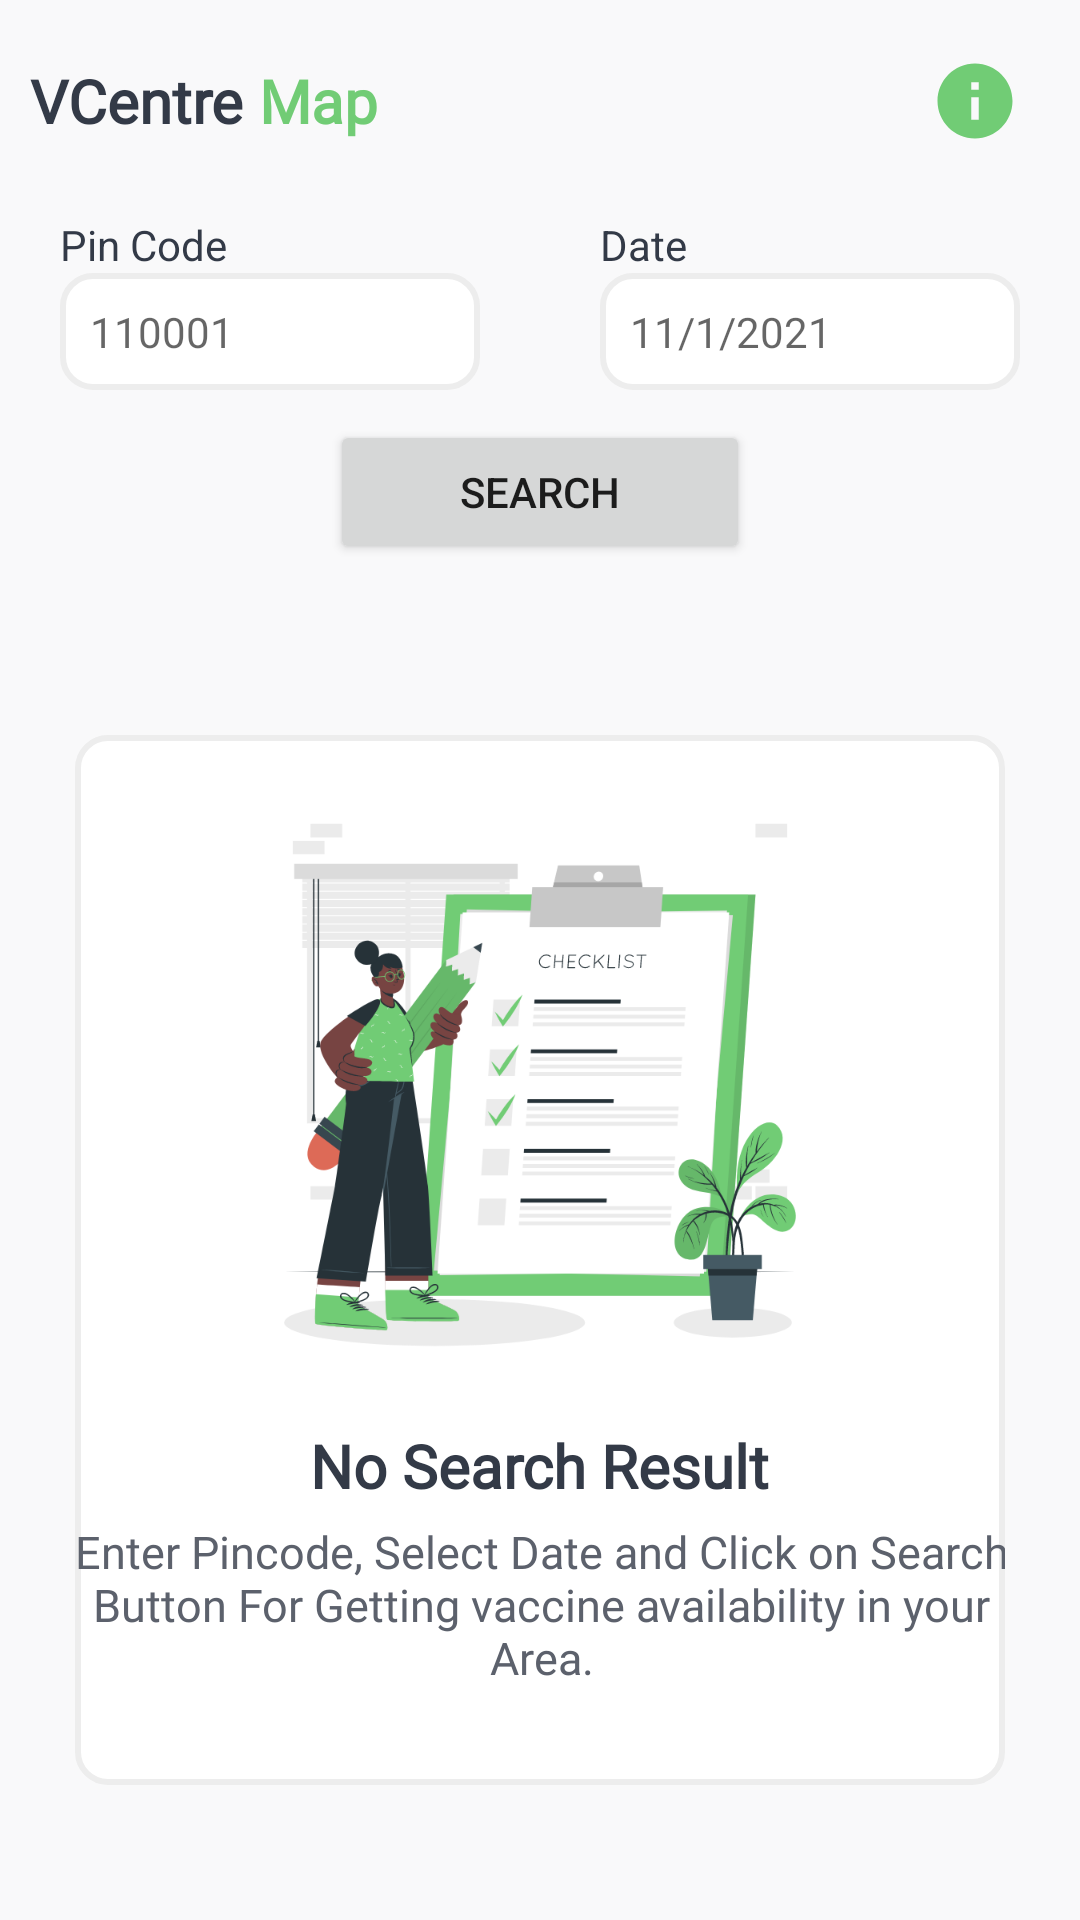

Icon bounding boxes for this 1080px×1920px phone screenshot, format (x1, y1, x2, y2):
info: (937, 63, 1013, 139)
